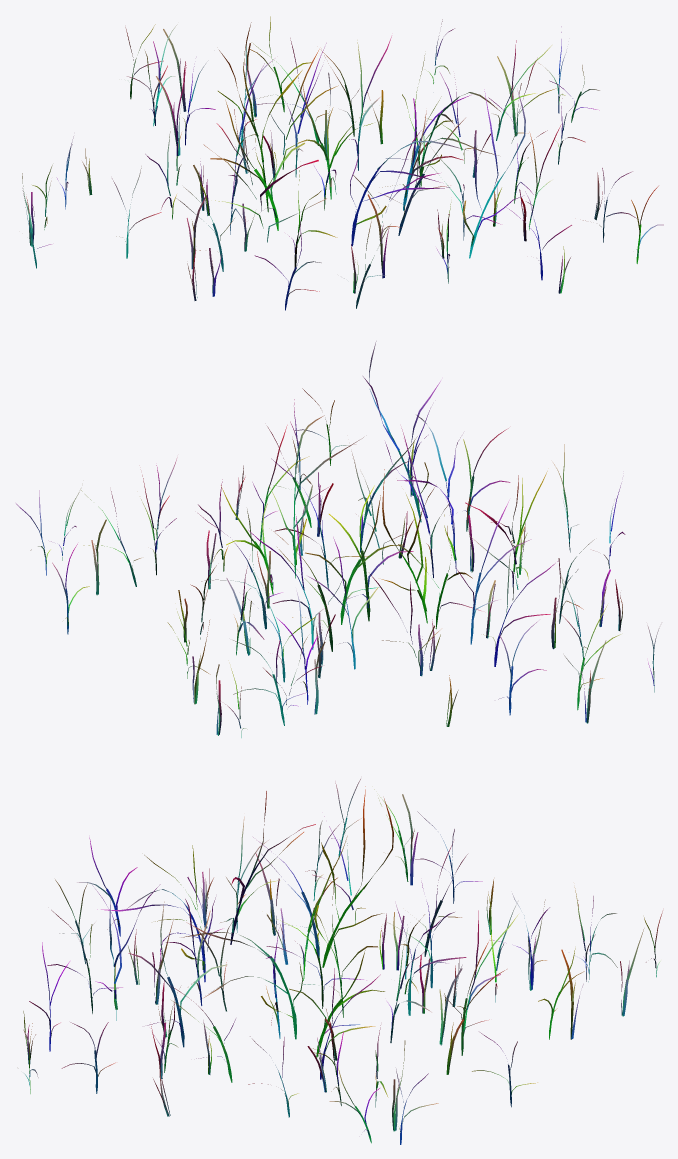
Rendered from Kikuyu_Grass_wiljearqx_High_wiljearqx_VarH_LOD1.fbx.
3 views of the same model, one above another, from view 1: azimuth 30°, elevation 25°; view 2: azimuth 150°, elevation 25°; view 3: azimuth 270°, elevation 25° (orthographic). The views are drawn at different scales.
Visible parts, largest first — view 1: _mx3k_VarH_LOD2; view 2: _mx3k_VarH_LOD2; view 3: _mx3k_VarH_LOD2.
Part boxes in pixels (left/top/right/bottom): _mx3k_VarH_LOD2: left=22, top=16, right=663, bottom=310; _mx3k_VarH_LOD2: left=16, top=341, right=659, bottom=737; _mx3k_VarH_LOD2: left=17, top=779, right=662, bottom=1144.
Bounding box in the file's own units: 91.28 × 27.82 × 83.23.
